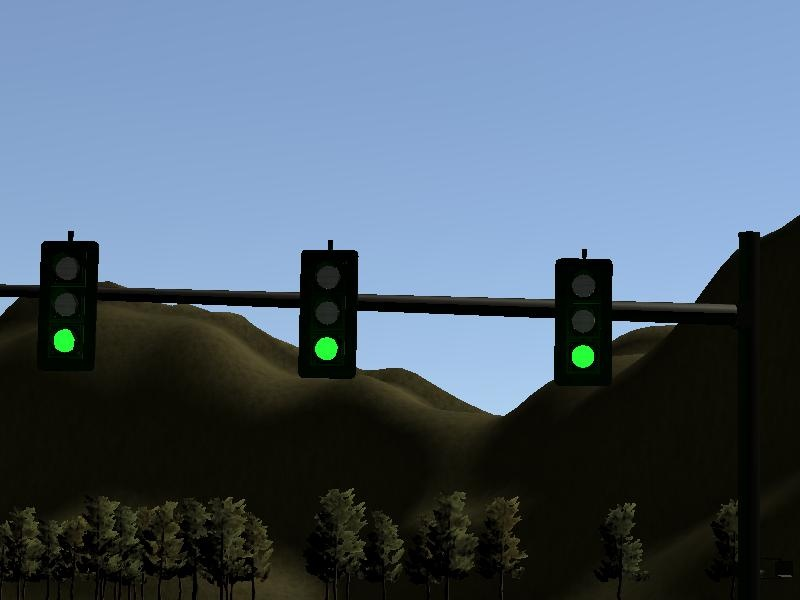GREEN: (36, 241, 99, 368), (297, 249, 360, 376), (552, 257, 615, 384)
